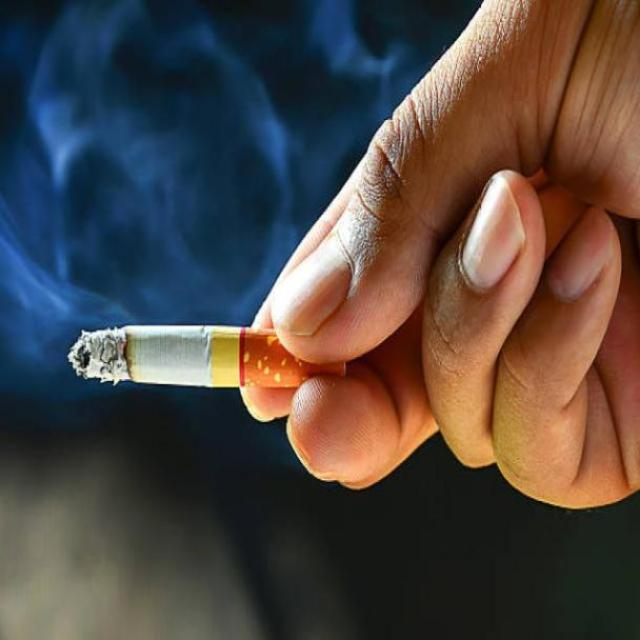rokok: (68, 324, 348, 391)
